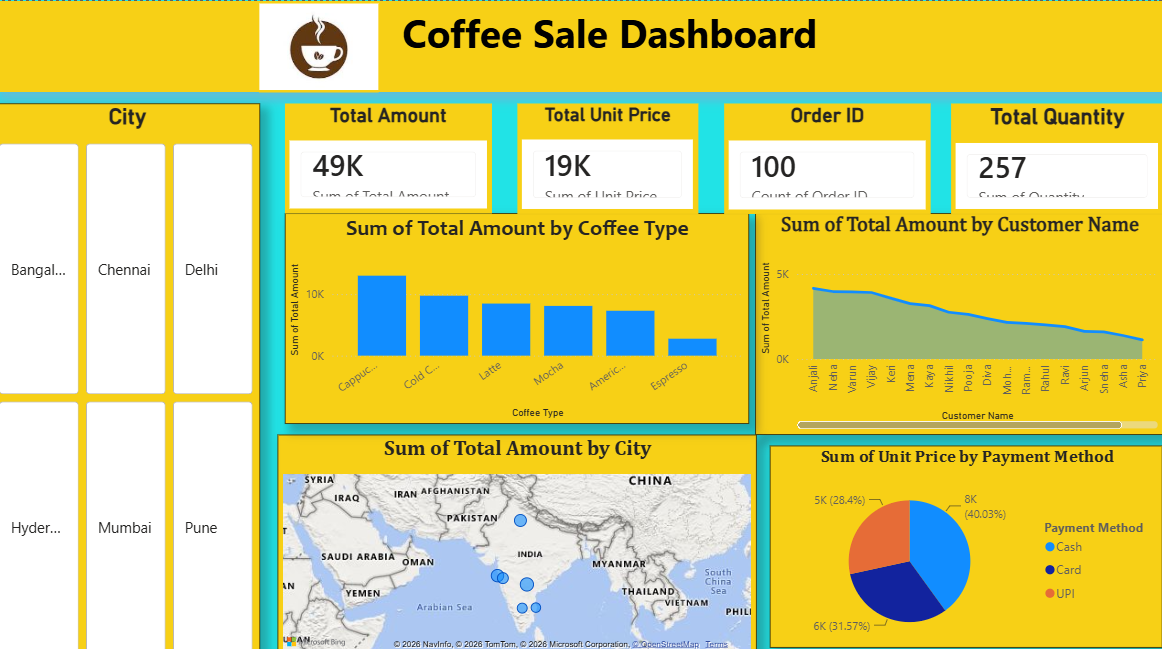

Layout of this report page (visuals, bound fields, positions):
{"tool":"powerbi","page":{"name":"Page 1","canvas":[1280,720],"ordinal":0},"visuals":[{"type":"textbox","box":[0,0,1279.8,99.7],"z":0},{"type":"textbox","box":[0,0,1279.8,99.7],"z":1000},{"type":"areaChart","fields":{"Category":["Sheet.Customer Name"],"Y":["Sum(Sheet.Total Amount)"]},"box":[832.6,232.6,446.5,241.9],"z":2000},{"type":"map","fields":{"Category":["Sheet.City"],"Size":["Sum(Sheet.Total Amount)"]},"box":[309.3,474.4,523.5,247.2],"z":3000},{"type":"pieChart","fields":{"Category":["Sheet.Payment Method"],"Y":["Sum(Sheet.Unit Price)"]},"box":[848.8,486,430.2,220.9],"z":4000},{"type":"advancedSlicerVisual","fields":{"Values":["Sheet.City"]},"box":[0,111.6,290.7,607],"z":5000},{"type":"columnChart","fields":{"Y":["Sum(Sheet.Total Amount)"],"Category":["Sheet.Coffee Type"]},"box":[318.6,232.6,507,230.2],"z":6000},{"type":"cardVisual","title":"Total Unit Price","fields":{"Data":["Sum(Sheet.Unit Price)"]},"box":[546.5,111.6,197.7,120.9],"z":7000},{"type":"image","box":[290.7,0,130.2,100],"z":8000},{"type":"cardVisual","title":"Total Quantity","fields":{"Data":["Sum(Sheet.Quantity)"]},"box":[1004.7,111.6,232.6,120.9],"z":9000},{"type":"cardVisual","title":"Order ID","fields":{"Data":["CountNonNull(Sheet.Order ID)"]},"box":[760.5,111.6,225.6,120.9],"z":10000},{"type":"cardVisual","title":"Total Amount","fields":{"Data":["Sum(Sheet.Total Amount)"]},"box":[307,111.6,225.6,120.9],"z":11000}]}

Visuals, with their boxes in screenshot pixels (x1, y1, x2, y2), scaled from the page's 1280x720 canvas onto the 1162x649 screenshot:
textbox: 0:0:1161:90
textbox: 0:0:1161:90
areaChart - Sheet.Customer Name x Sum(Sheet.Total Amount): 756:210:1161:428
map - Sheet.City x Sum(Sheet.Total Amount): 281:428:756:648
pieChart - Sheet.Payment Method x Sum(Sheet.Unit Price): 771:438:1161:637
advancedSlicerVisual - Sheet.City: 0:101:264:648
columnChart - Sum(Sheet.Total Amount) x Sheet.Coffee Type: 289:210:749:417
"Total Unit Price" cardVisual: 496:101:676:210
image: 264:0:382:90
"Total Quantity" cardVisual: 912:101:1123:210
"Order ID" cardVisual: 690:101:895:210
"Total Amount" cardVisual: 279:101:484:210
